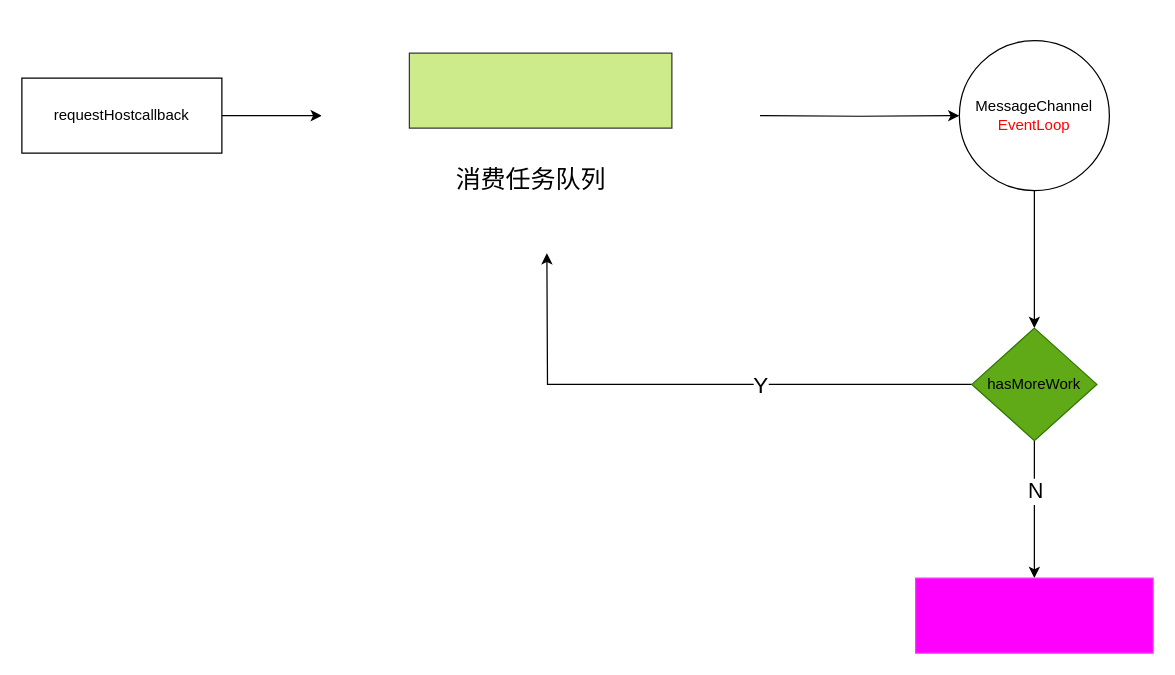
Some shapes in this 1175 by 675 pixel diagram are drawn without their labels. Each missing label, with the centre of its shape:
isMessageLoopRunning = false scheduledHostCallback = null: the point at 1033,615
schedulePerfoemUtilDeadLine: the point at 540,90
